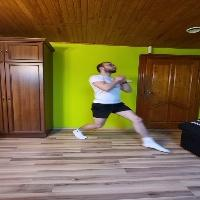lunges: (67, 61, 173, 165)
